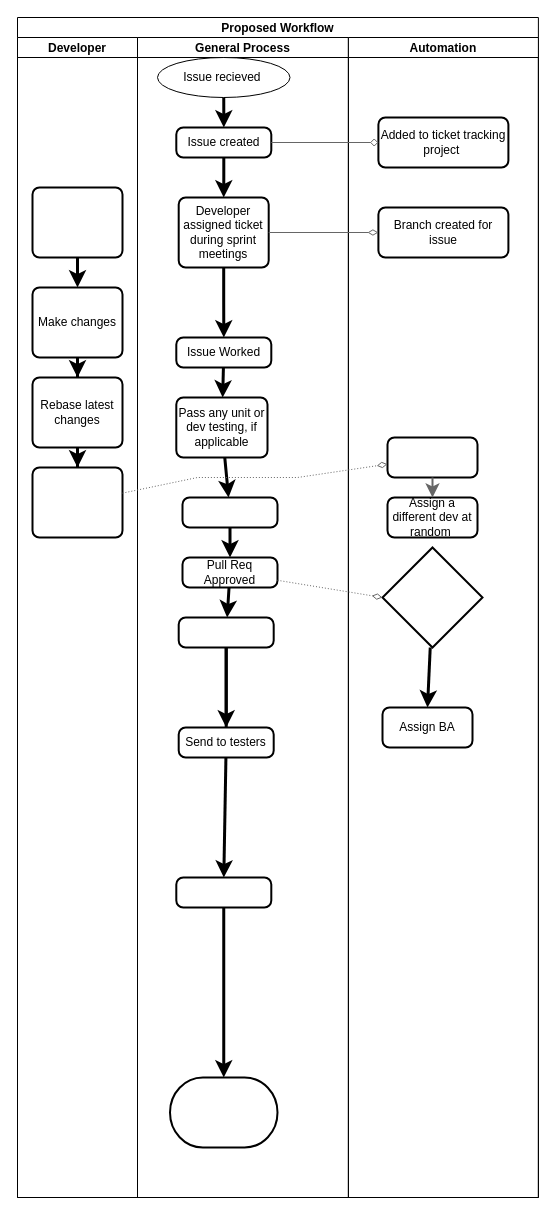
This 556x1215 diagram has some shape labels left out. Each missing label, with the centre of its shape:
"Awaiting Review" Status: (x=432, y=457)
Checkout issue branch: (x=77, y=222)
Code Review: (x=229, y=512)
Deploy: (x=225, y=632)
End: (x=223, y=1112)
If closed and merged: (x=432, y=597)
Issue Closed: (x=223, y=892)
Open Pull Request: (x=77, y=502)
